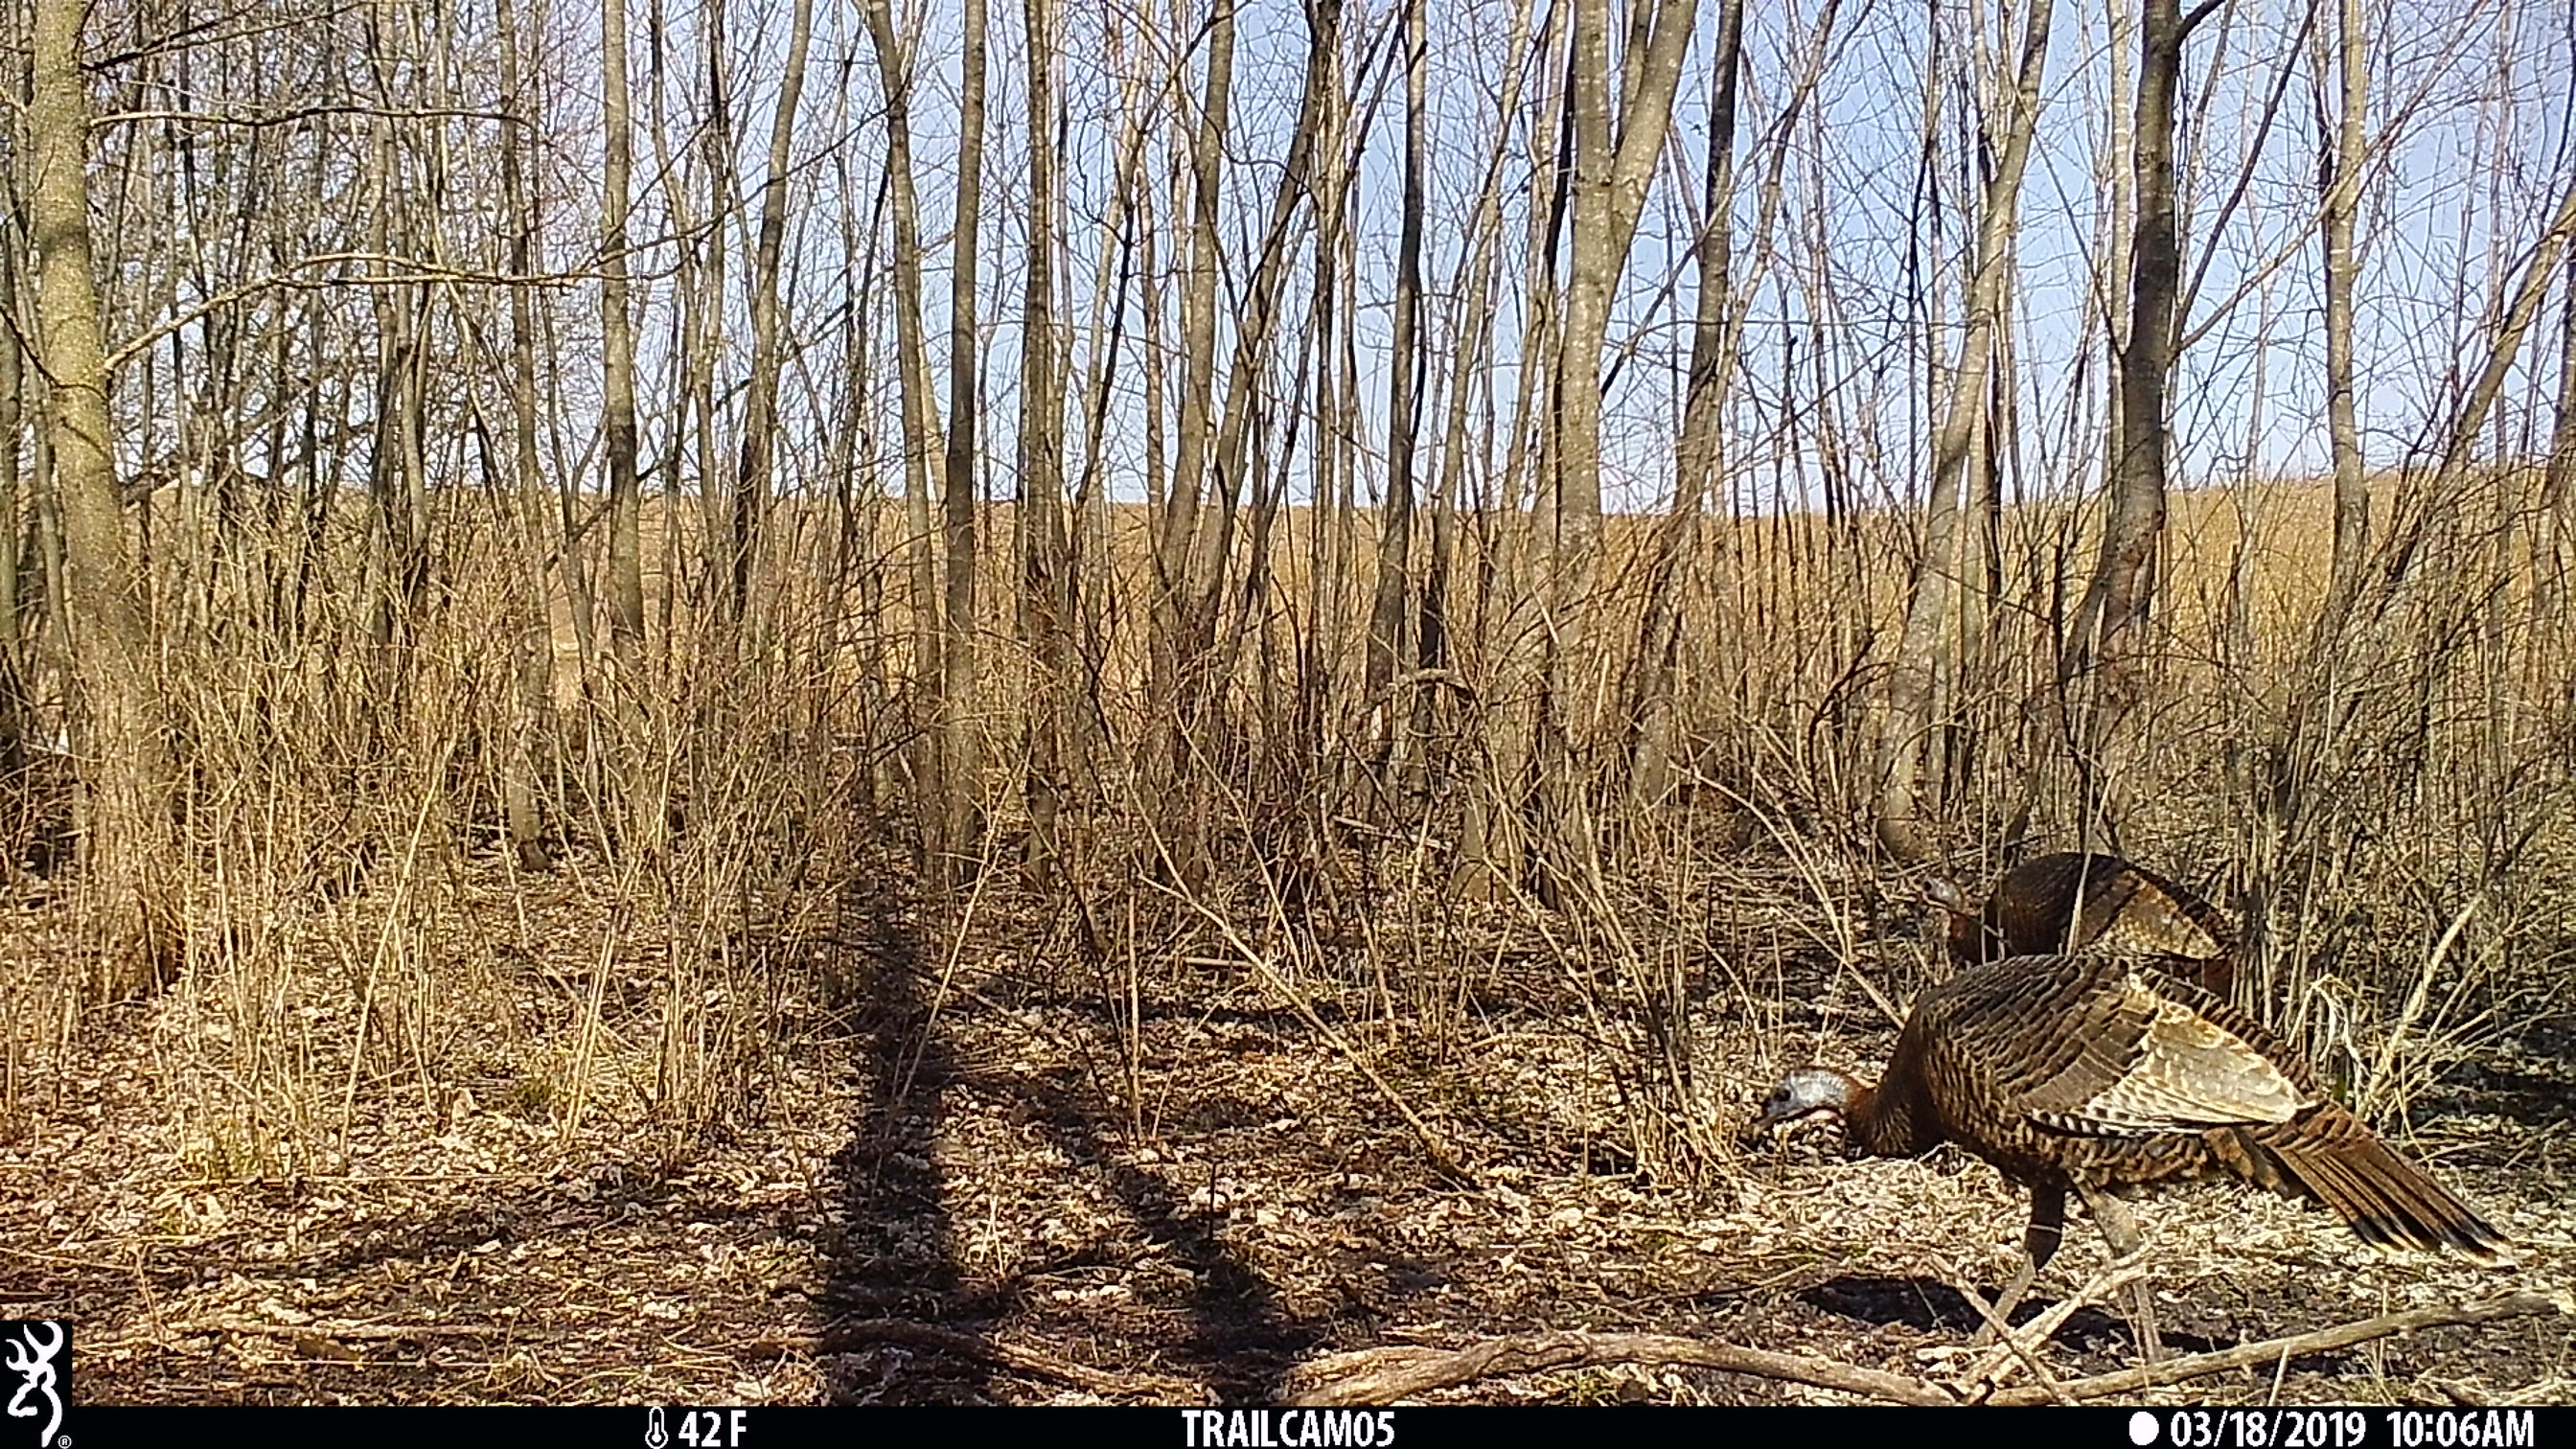Turkey: (1752, 952, 2514, 1261), (1927, 849, 2240, 996)
